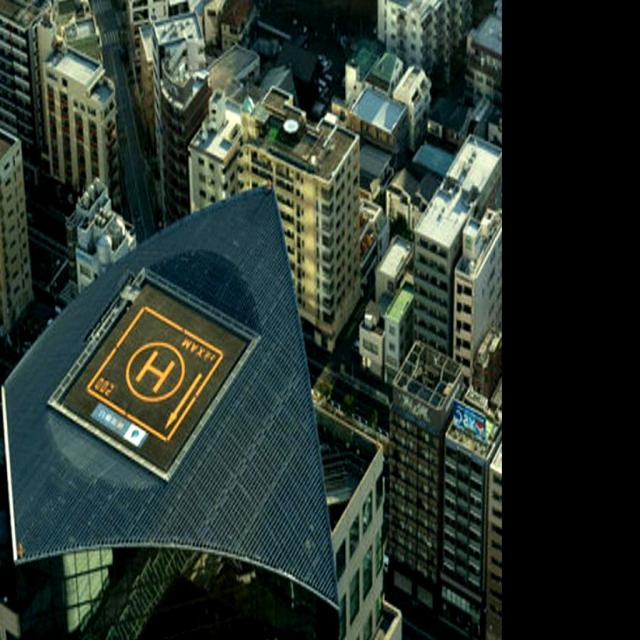helipad: (122, 339, 188, 404)
